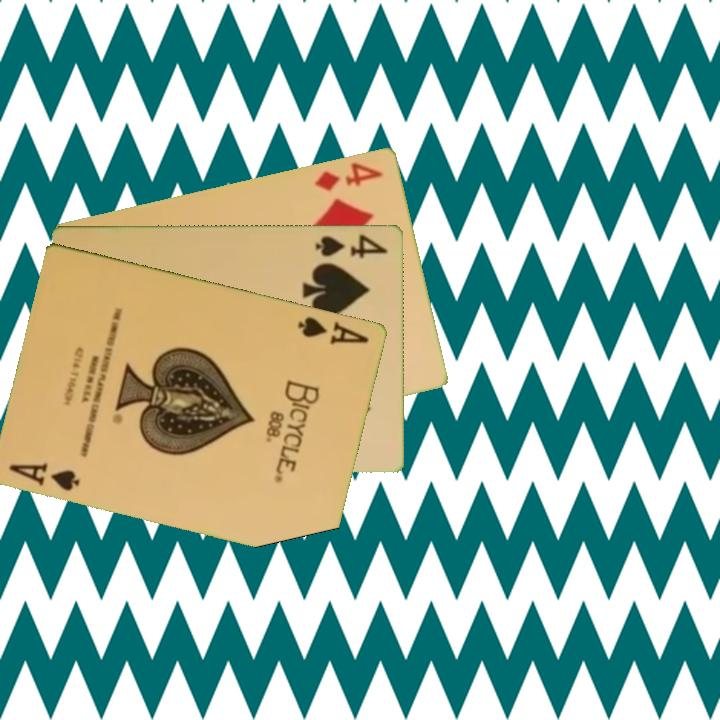4d: (311, 158, 386, 194)
4s: (312, 230, 391, 261)
As: (5, 459, 83, 494), (295, 312, 372, 347)
